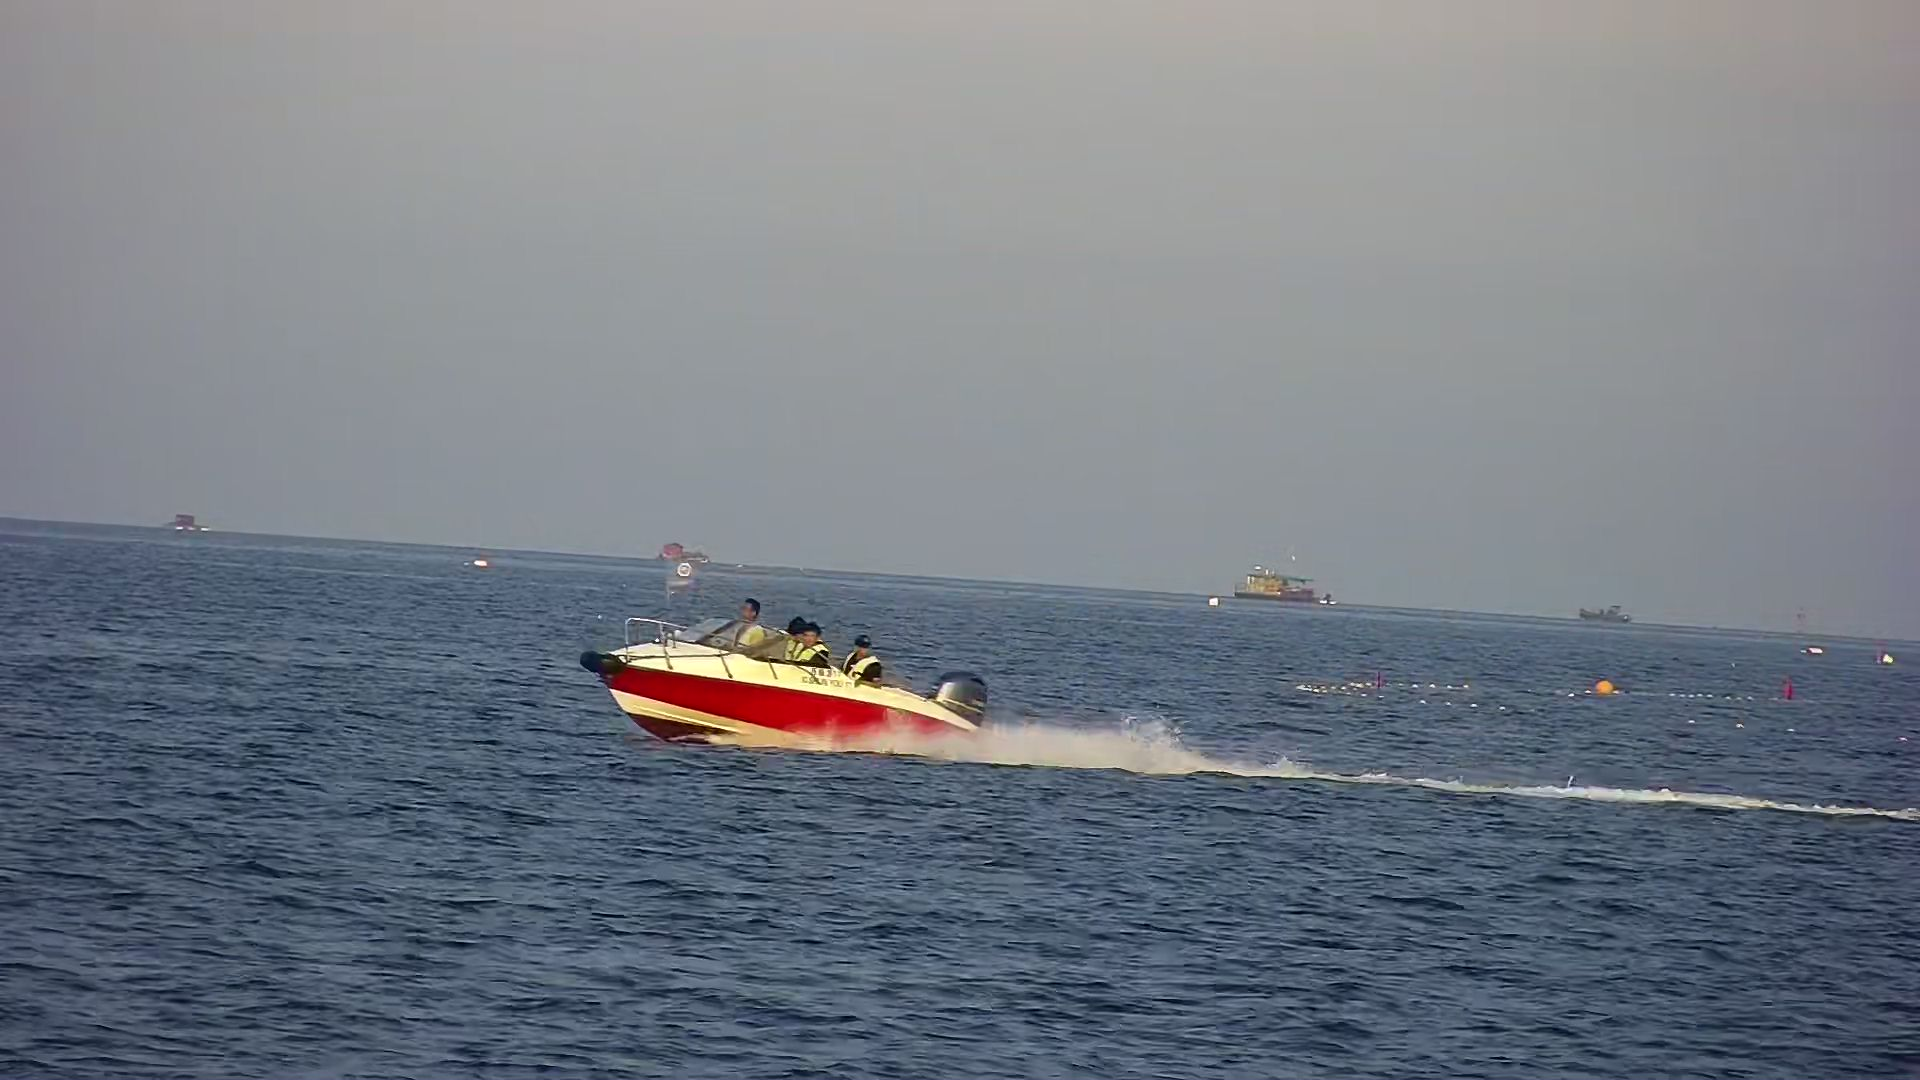ball: (1588, 671, 1615, 707)
boat: (585, 601, 1006, 760)
ship: (1226, 542, 1335, 603), (647, 531, 733, 584), (1573, 595, 1647, 628), (162, 510, 208, 541)
